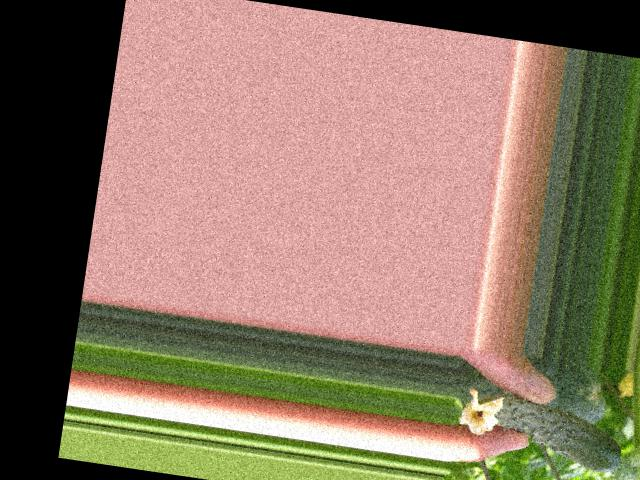cucumber: (456, 387, 628, 473)
